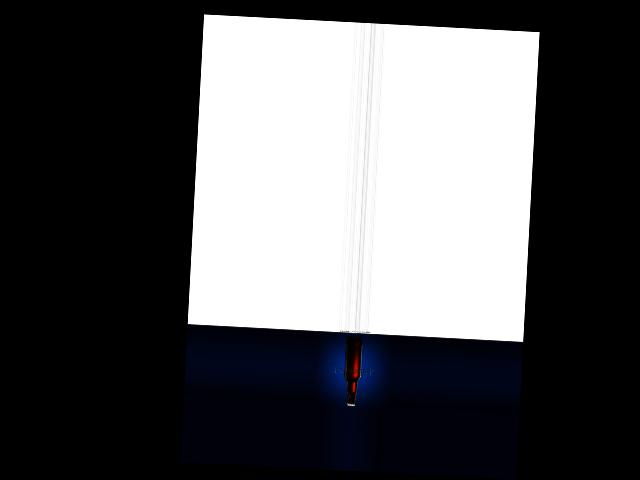beer: (342, 340, 362, 406)
